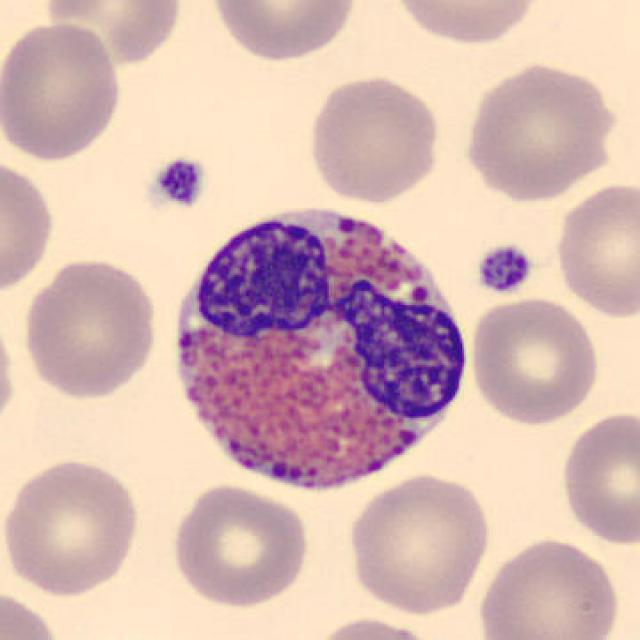Eosinophil: (155, 189, 480, 511)
Platelets: (148, 154, 210, 214), (473, 240, 537, 296)
RBC: (459, 58, 622, 203), (343, 469, 494, 617), (18, 254, 162, 402), (0, 453, 144, 600), (167, 481, 313, 610), (304, 70, 444, 204), (0, 18, 126, 164), (466, 294, 602, 426), (473, 532, 624, 640), (551, 178, 638, 321), (555, 407, 638, 547), (41, 0, 187, 71), (204, 0, 360, 63), (0, 150, 59, 300), (386, 0, 548, 48), (307, 613, 446, 640), (0, 585, 66, 640), (0, 302, 20, 444)
